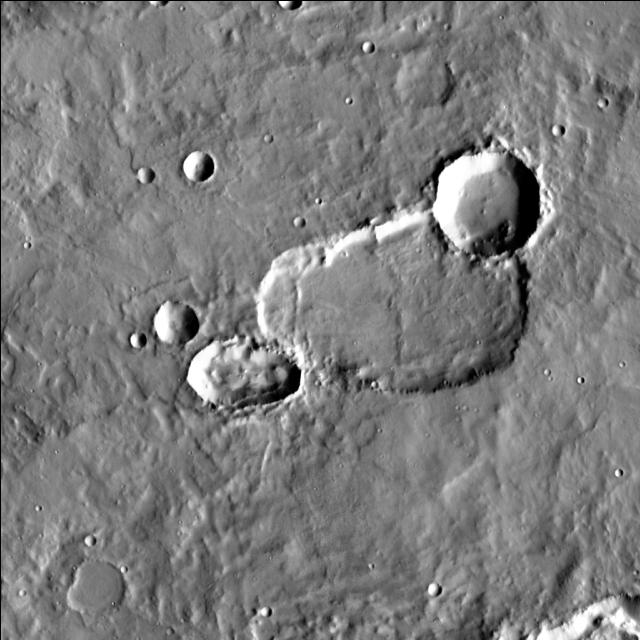crater: (331, 209, 519, 397), (249, 238, 402, 388), (426, 151, 534, 258), (0, 92, 73, 206), (190, 330, 280, 420), (394, 55, 452, 112), (68, 562, 123, 616), (155, 301, 199, 345), (182, 150, 212, 180), (128, 332, 146, 349), (136, 166, 154, 182), (428, 581, 442, 595), (552, 124, 566, 138), (362, 40, 374, 53), (316, 118, 328, 129), (293, 218, 303, 228), (262, 132, 272, 142), (598, 96, 608, 106), (84, 535, 94, 545), (260, 605, 270, 615), (84, 251, 94, 261), (606, 468, 616, 476), (576, 376, 584, 384), (344, 97, 352, 104), (442, 22, 449, 30), (23, 240, 30, 248), (166, 626, 173, 634), (120, 565, 126, 572), (314, 196, 320, 202), (544, 368, 550, 374), (34, 504, 40, 510), (618, 361, 624, 366)
